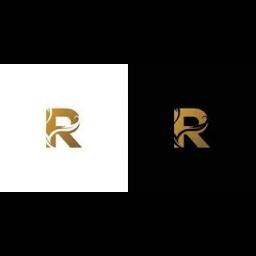r: (42, 106, 84, 150), (170, 107, 212, 151)
